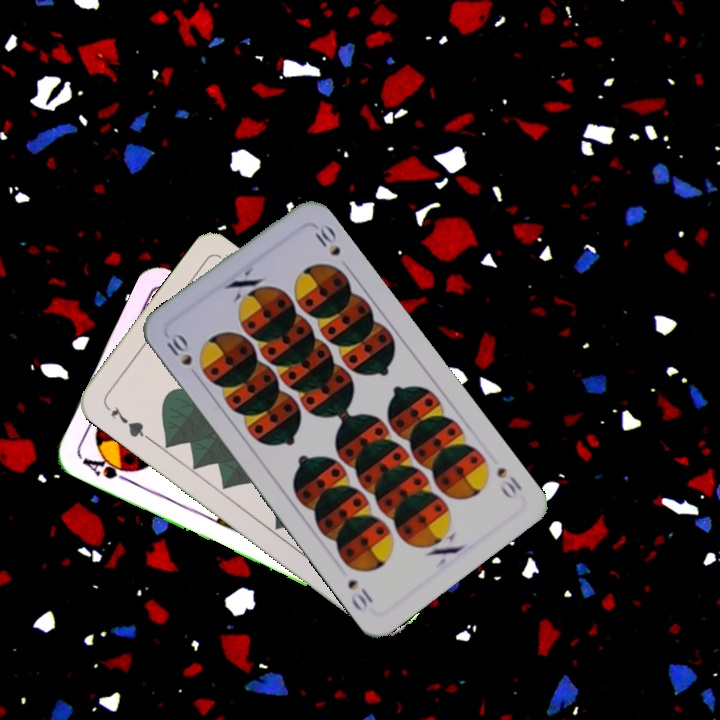G7: (101, 401, 152, 442)
S10: (162, 328, 203, 382), (492, 463, 525, 502)
SA: (78, 450, 137, 485)
